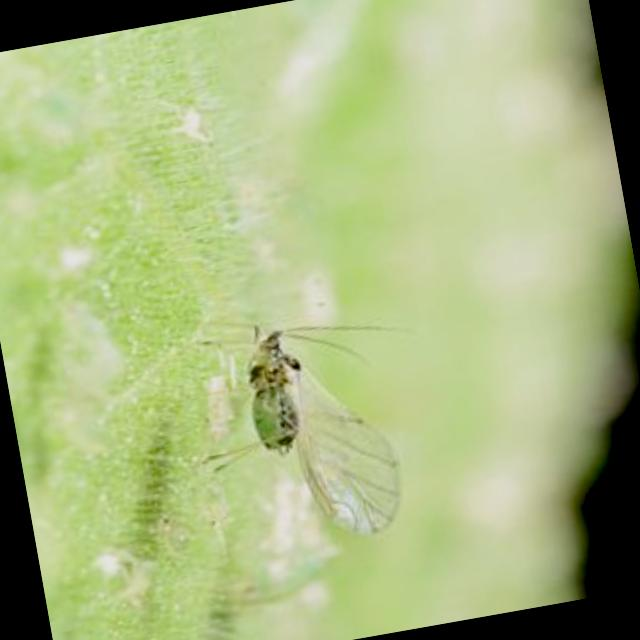Green peach aphid: (128, 213, 452, 584)
